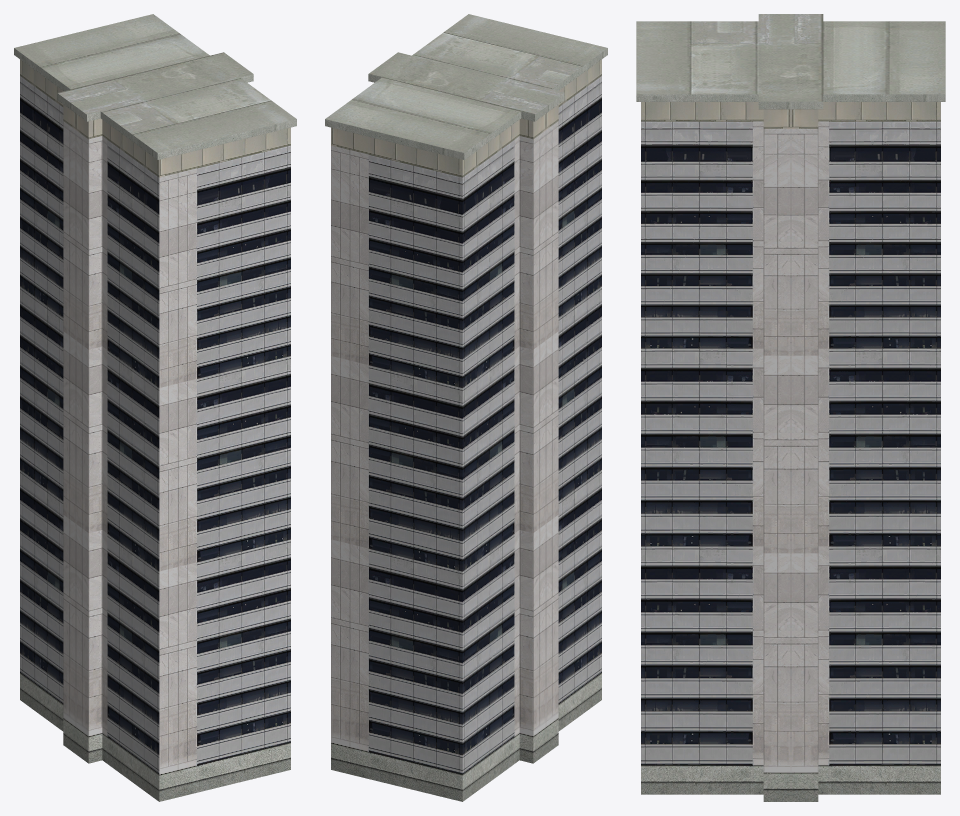
The model's file is skytower1.FBX.
3 renders of one model, left to right at view 1: azimuth 30°, elevation 25°; view 2: azimuth 150°, elevation 25°; view 3: azimuth 270°, elevation 25°, orthographic. The views are drawn at different scales.
Visible parts, largest first — view 1: polySurface64; view 2: polySurface64; view 3: polySurface64.
Part boxes in pixels (box(x1,y1,x2,y2)): polySurface64: box(14, 14, 296, 801); polySurface64: box(325, 14, 607, 801); polySurface64: box(636, 14, 945, 801).
Bounding box in the file's own units: 6.72 × 25.08 × 10.02.
